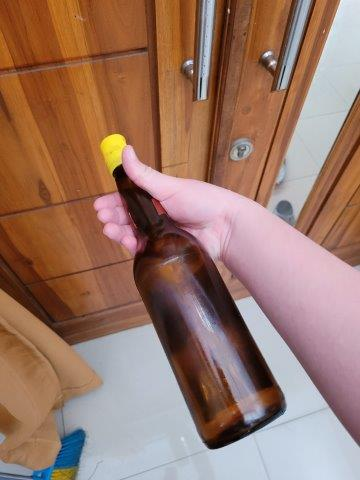botolkaca: (101, 133, 287, 450)
